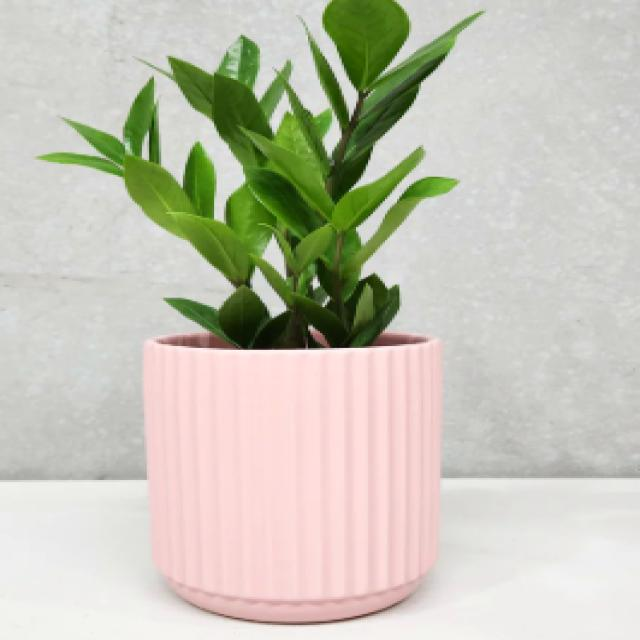Plant Pot: (132, 325, 475, 631)
